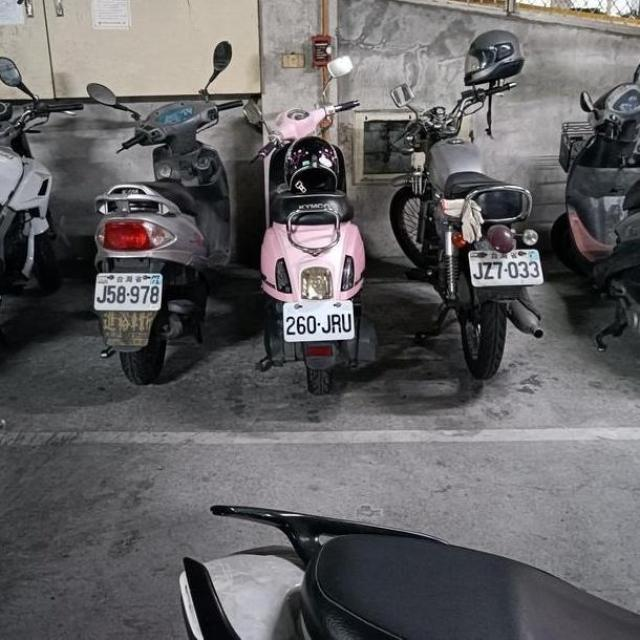W: (90, 264, 165, 315), (280, 296, 357, 345), (467, 244, 544, 288)
